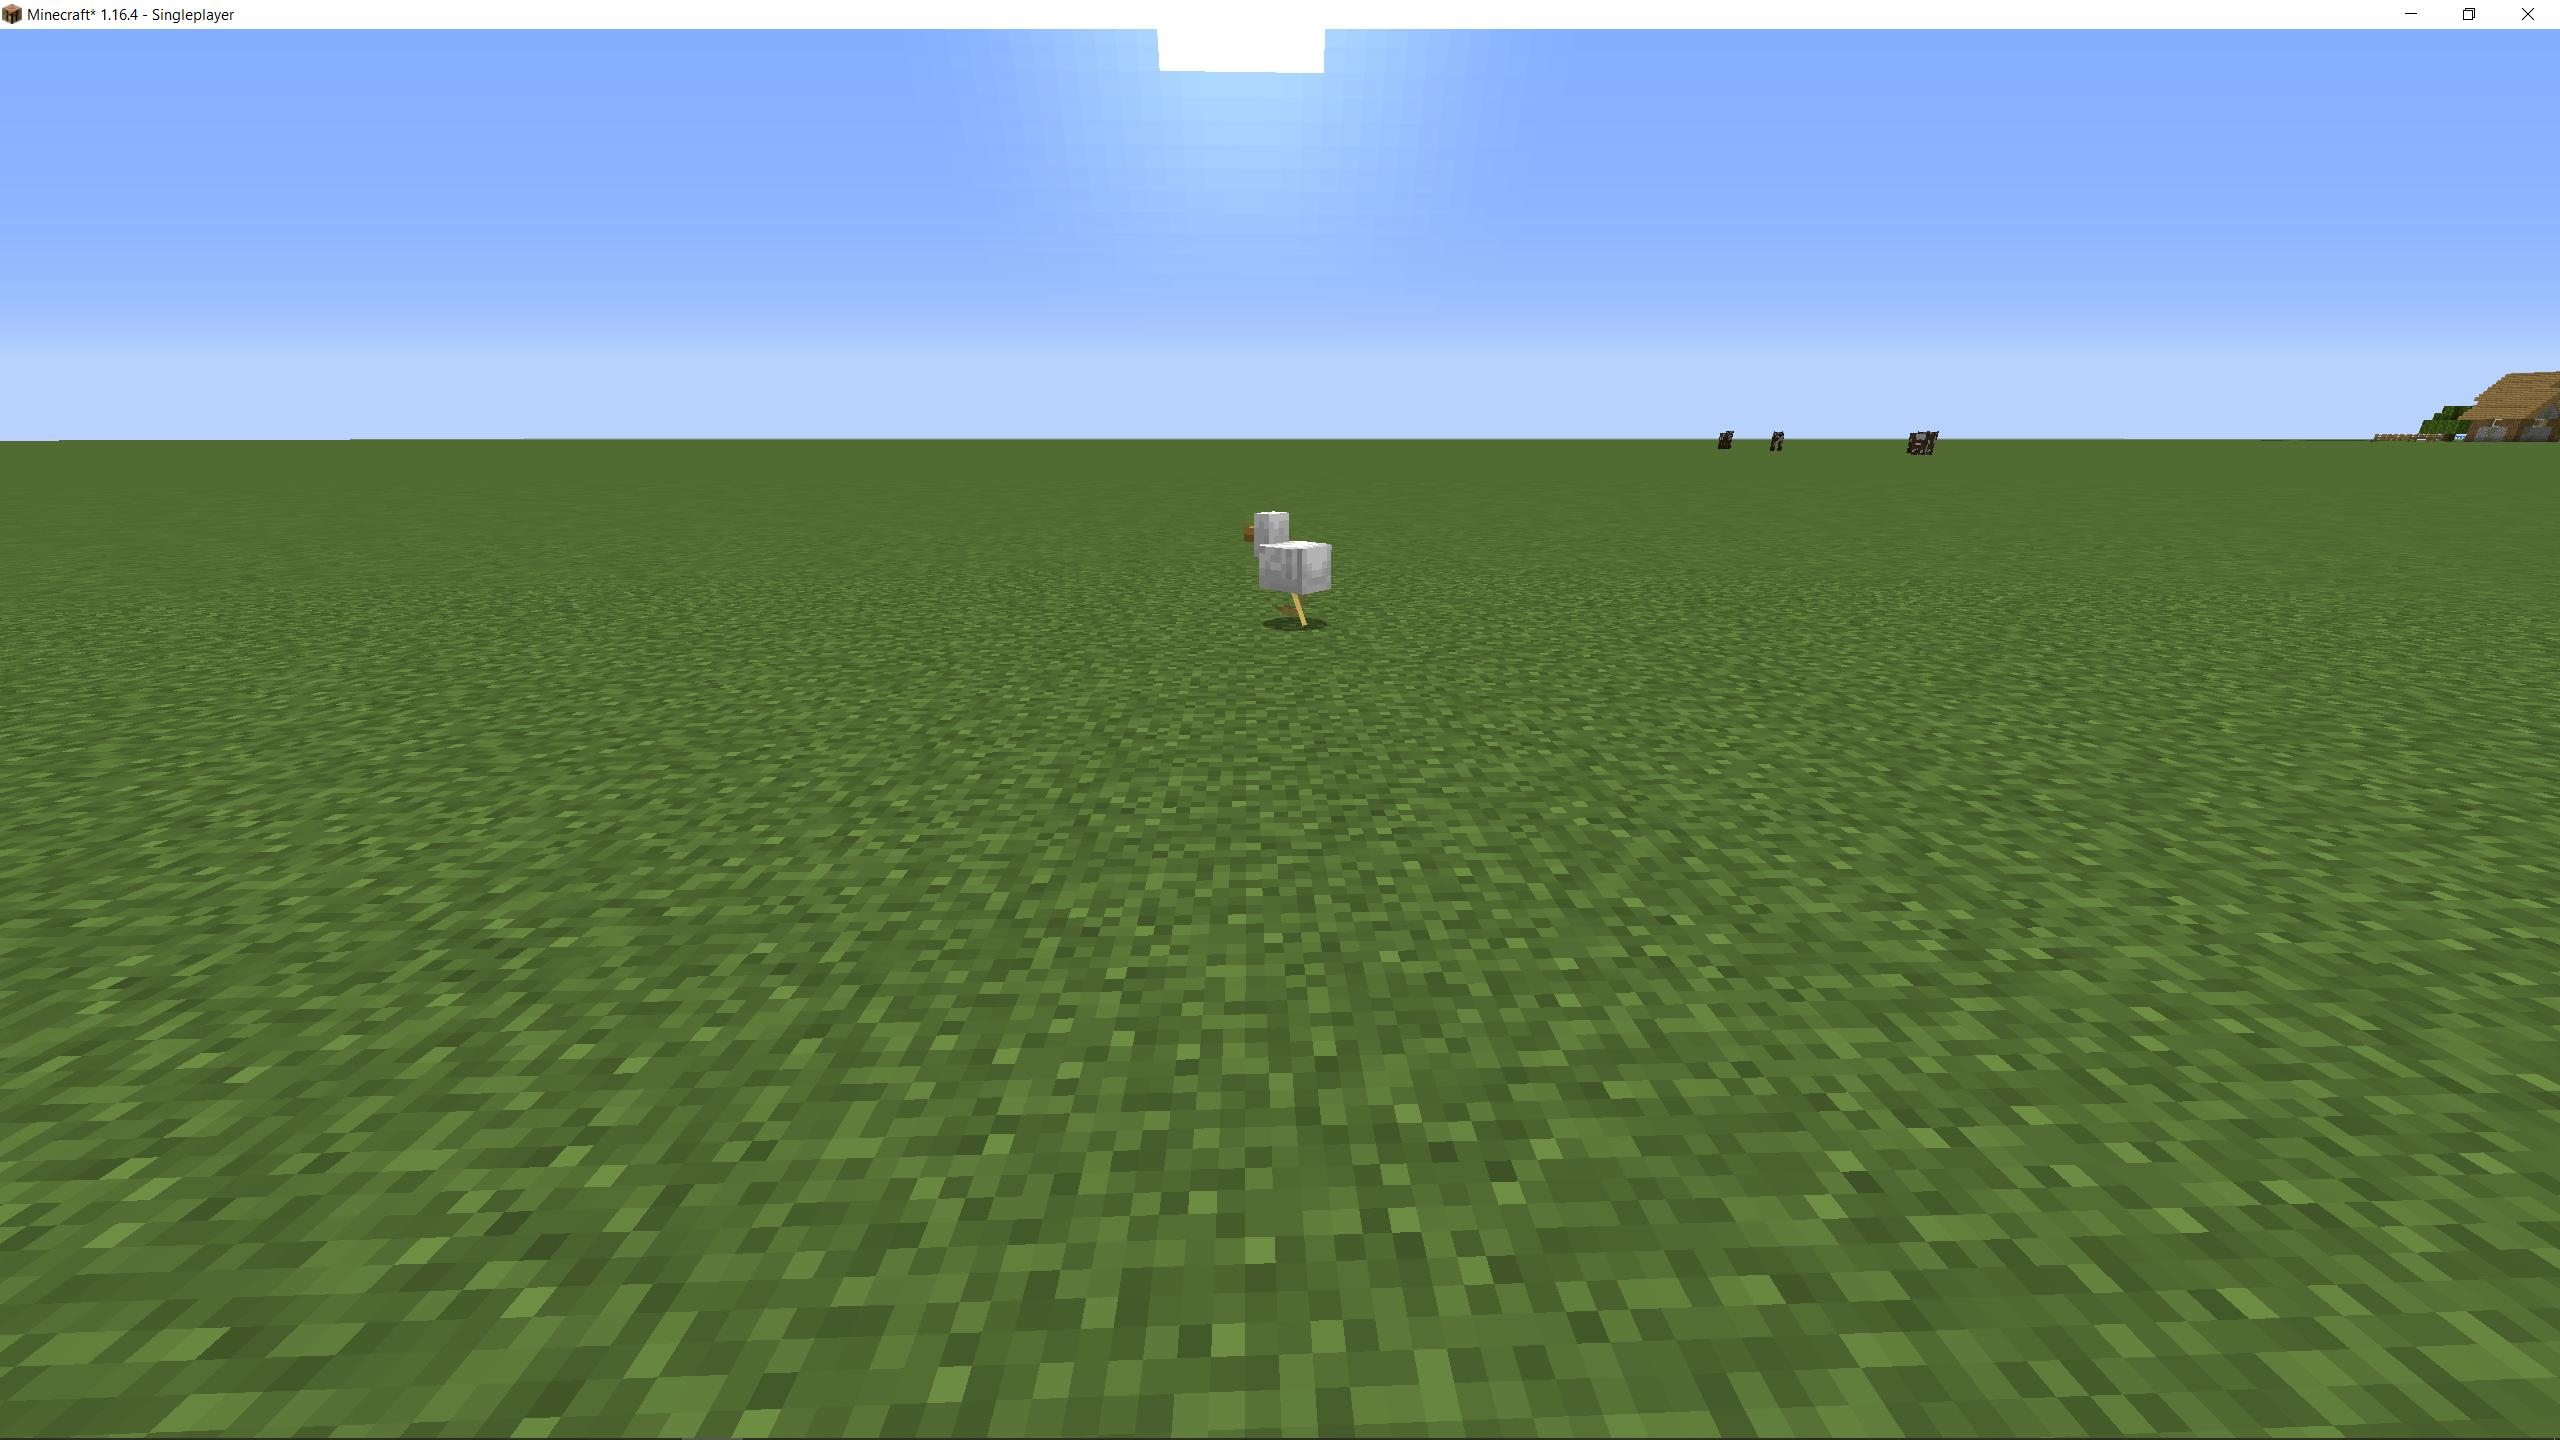chicken: (1240, 506, 1329, 633)
